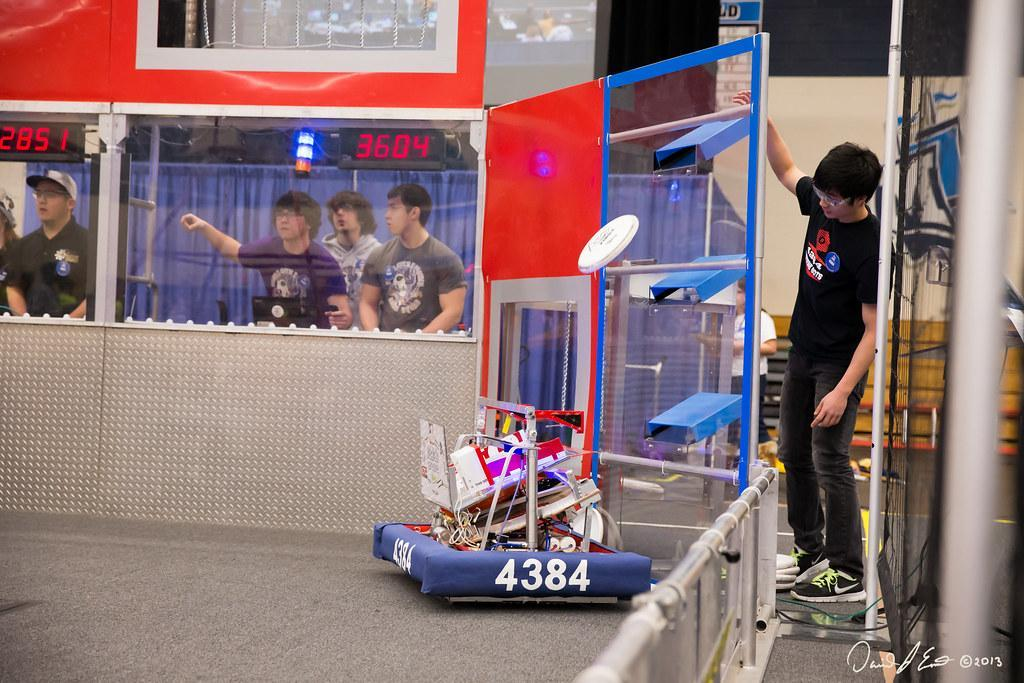robot: (366, 386, 656, 610)
